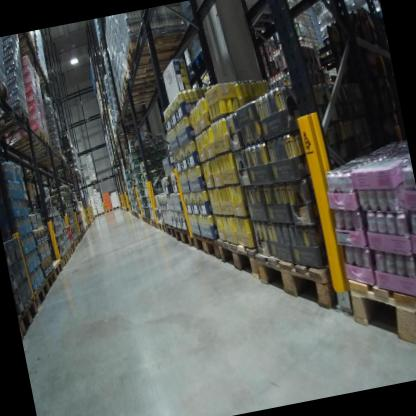pallet: (250, 222, 359, 322), (6, 127, 121, 212), (341, 263, 416, 361), (118, 19, 198, 80), (215, 219, 275, 287), (0, 103, 37, 144), (14, 290, 43, 338), (119, 57, 161, 87), (120, 71, 165, 99), (192, 228, 221, 267), (29, 274, 53, 316), (117, 84, 157, 109), (0, 70, 18, 120), (110, 125, 148, 148), (111, 107, 148, 130), (23, 136, 55, 161), (173, 222, 196, 250), (111, 120, 148, 137), (11, 34, 39, 56), (42, 263, 60, 293), (47, 255, 65, 282), (33, 70, 51, 89), (31, 62, 48, 81), (164, 220, 178, 243), (56, 250, 71, 268), (156, 215, 167, 235), (63, 243, 74, 262), (149, 214, 159, 231), (68, 240, 77, 257), (145, 214, 152, 227), (72, 239, 79, 250), (142, 212, 148, 224), (96, 209, 105, 217), (104, 207, 113, 213), (93, 212, 98, 218)
